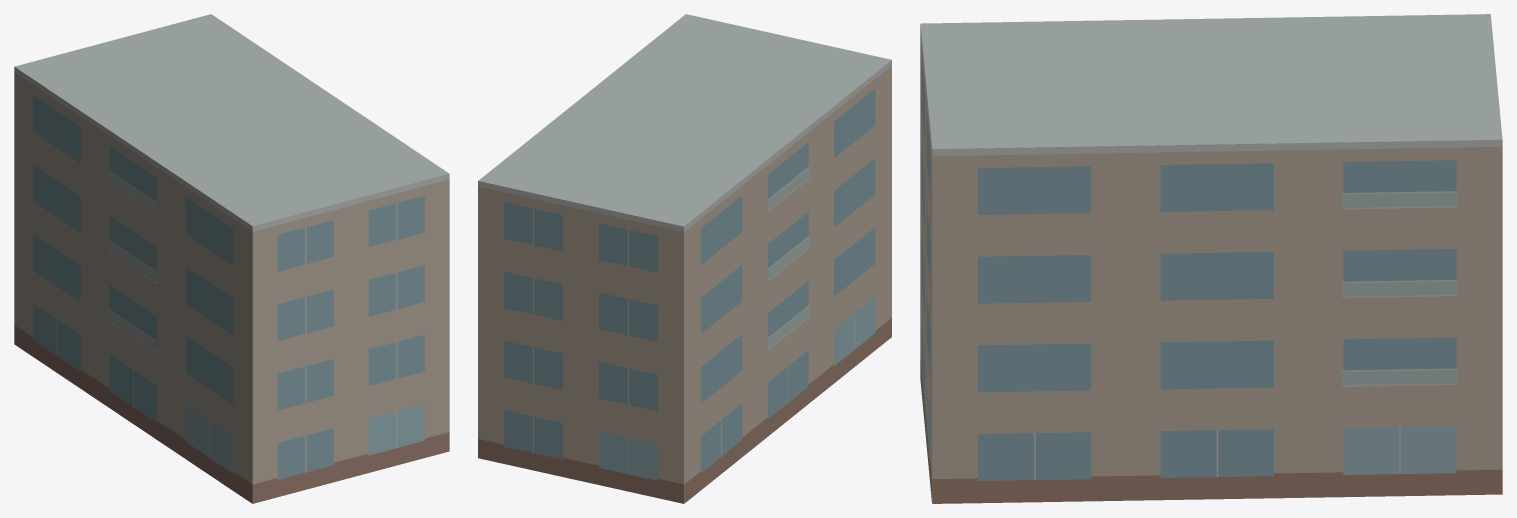
Rendered from residential-41d10650-d7ac-46ef-8440-9b31fcd993b8.glb.
3 views of the same model, side by side, from view 1: azimuth 30°, elevation 25°; view 2: azimuth 150°, elevation 25°; view 3: azimuth 270°, elevation 25° (orthographic). The views are drawn at different scales.
Visible parts, largest first — view 1: residential-41d10650-d7ac-46ef-8440-9b31fcd993b8.tmp; view 2: residential-41d10650-d7ac-46ef-8440-9b31fcd993b8.tmp; view 3: residential-41d10650-d7ac-46ef-8440-9b31fcd993b8.tmp.
Part boxes in pixels (x1=…): residential-41d10650-d7ac-46ef-8440-9b31fcd993b8.tmp: x1=14, y1=14, x2=449, y2=503; residential-41d10650-d7ac-46ef-8440-9b31fcd993b8.tmp: x1=478, y1=14, x2=891, y2=503; residential-41d10650-d7ac-46ef-8440-9b31fcd993b8.tmp: x1=920, y1=14, x2=1502, y2=503.
Bounding box in the file's own units: 9.98 × 12.2 × 18.16.
